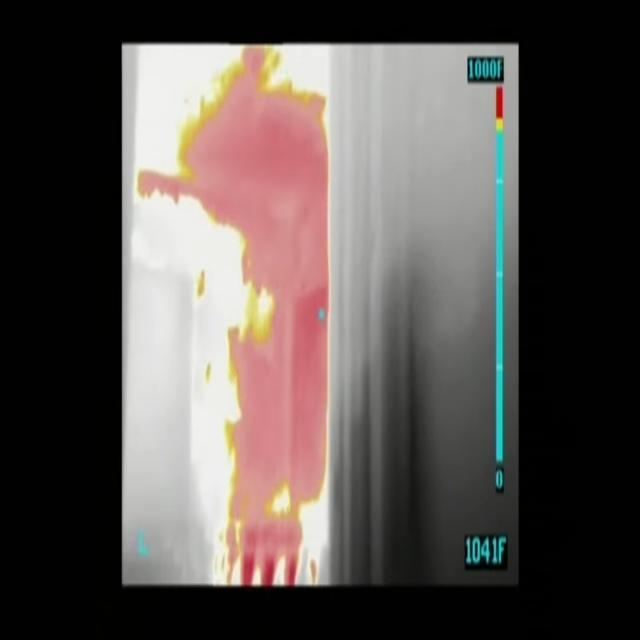fire: (135, 47, 335, 588)
